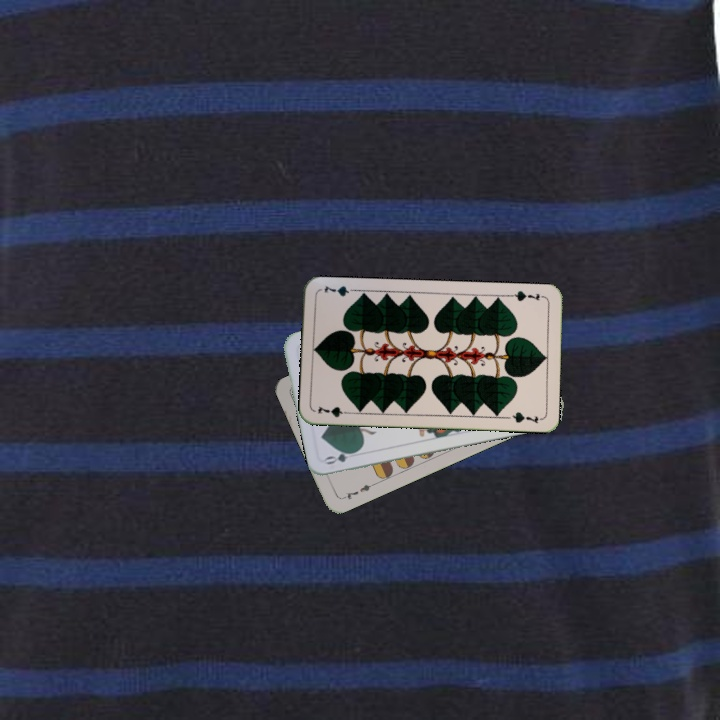E7: (338, 480, 377, 502)
G7: (314, 402, 354, 419), (506, 287, 547, 303)
GO: (321, 446, 362, 467)
